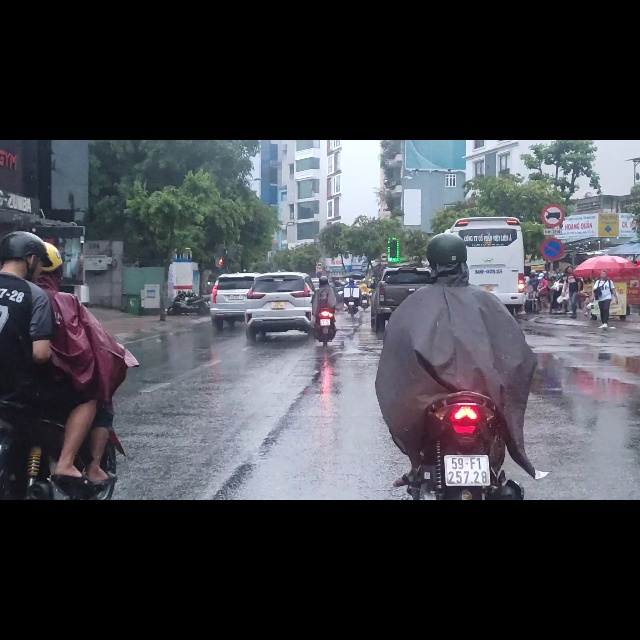bien_cam: (540, 171, 565, 215), (541, 113, 566, 156), (380, 199, 389, 215), (316, 216, 323, 228)
